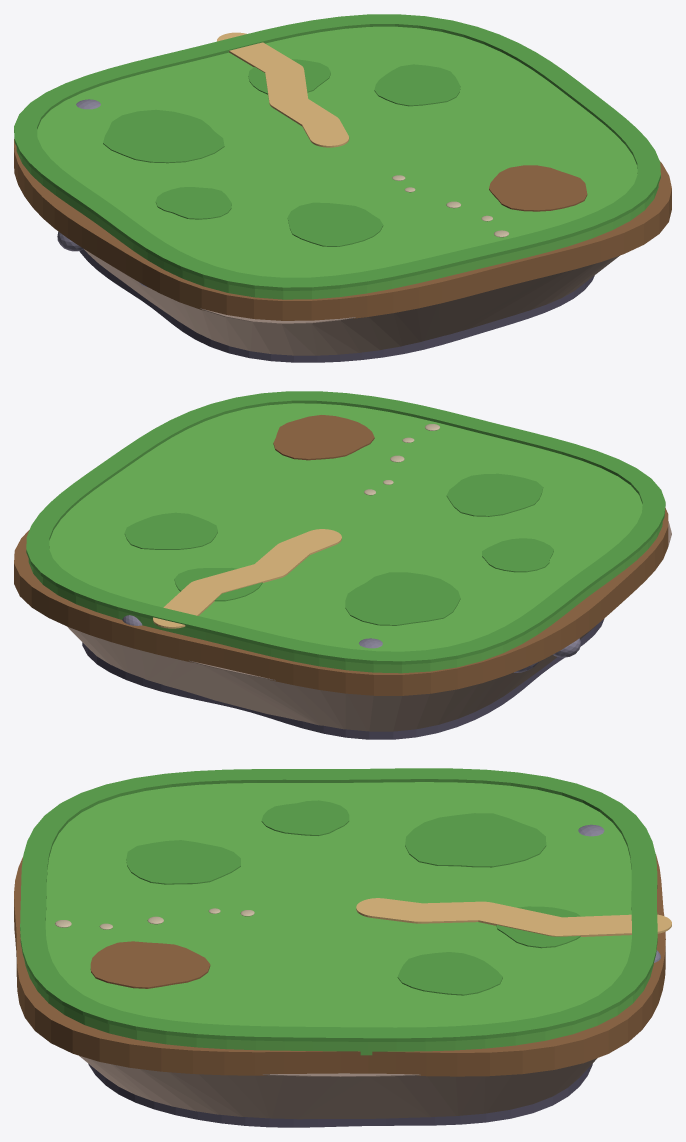
File: terrain_ile.glb
The picture shows the model from 3 angles, top to bottom: view 1: azimuth 30°, elevation 25°; view 2: azimuth 150°, elevation 25°; view 3: azimuth 270°, elevation 25°; orthographic projection. The views are drawn at different scales.
Parts seen in each view (by area): view 1: grass, grass_dark, dirt, cliff, path_sand, rock_dark; view 2: grass, grass_dark, dirt, cliff, path_sand, rock_dark, rock; view 3: grass, grass_dark, dirt, cliff, path_sand, rock_dark.
Part boxes in pixels (bbox=[...]): grass: bbox=[16, 26, 658, 299]; grass_dark: bbox=[14, 14, 660, 290]; dirt: bbox=[14, 139, 671, 320]; cliff: bbox=[84, 249, 619, 355]; path_sand: bbox=[217, 32, 349, 147]; rock_dark: bbox=[79, 249, 594, 362]; grass: bbox=[28, 403, 662, 673]; grass_dark: bbox=[26, 391, 665, 664]; dirt: bbox=[14, 415, 668, 695]; cliff: bbox=[67, 521, 671, 731]; path_sand: bbox=[153, 529, 341, 628]; rock_dark: bbox=[82, 618, 604, 739]; rock: bbox=[122, 615, 580, 672]; grass: bbox=[24, 782, 653, 1055]; grass_dark: bbox=[20, 768, 657, 1041]; dirt: bbox=[14, 854, 665, 1076]; cliff: bbox=[79, 914, 665, 1119]; path_sand: bbox=[356, 898, 671, 936]; rock_dark: bbox=[88, 1063, 592, 1127].
Size of the model in its own units: 15.68 by 2.99 by 15.71.
